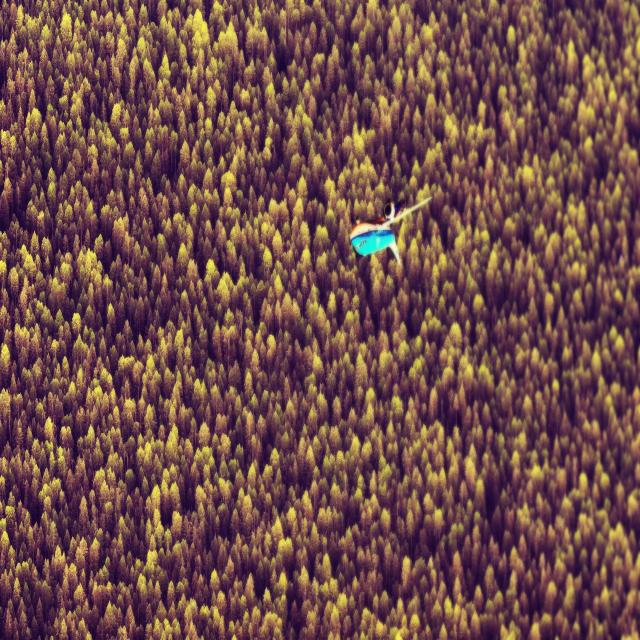airplane: (348, 194, 432, 266)
